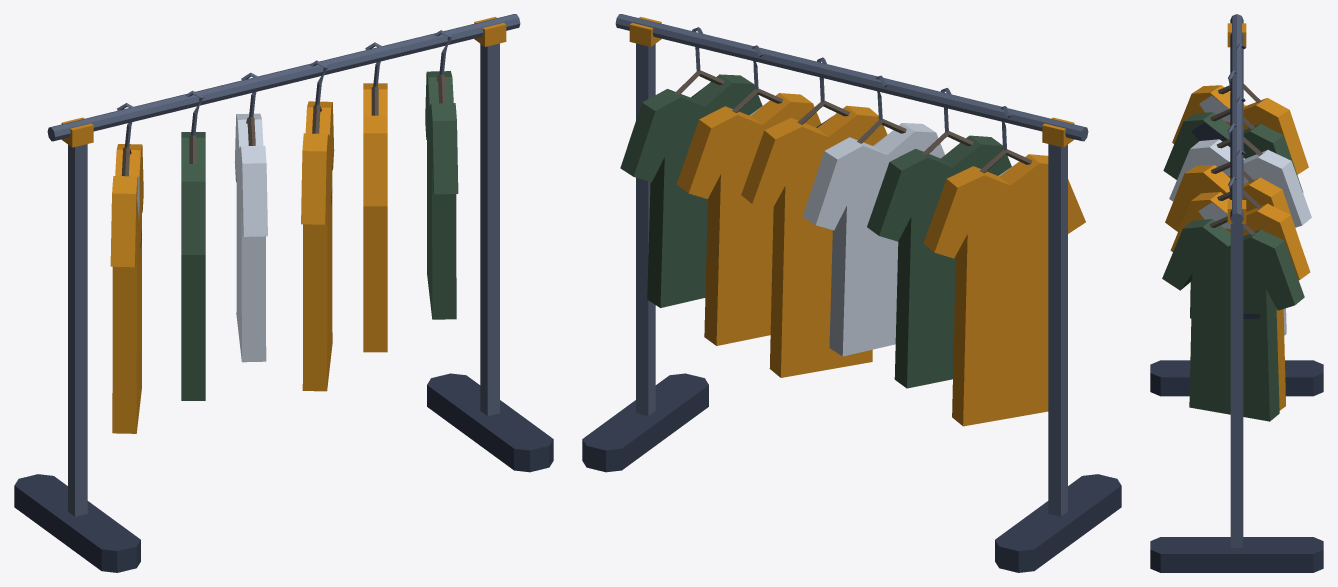
File: mall_clothes_rack_amber.glb
3 views of the same model, side by side, from view 1: azimuth 30°, elevation 25°; view 2: azimuth 150°, elevation 25°; view 3: azimuth 270°, elevation 25° (orthographic). The views are drawn at different scales.
Parts seen in each view (by area): view 1: draped_jacket, clothes_rail, draped_jacket.001, lapel.001, draped_jacket.002, hanger; view 2: draped_jacket, draped_jacket.001, clothes_rail, draped_jacket.002, lapel.001, hanger; view 3: draped_jacket.001, draped_jacket, lapel.001, clothes_rail, draped_jacket.002, hanger.
Part boxes in pixels (x1,y1,x2,y2): draped_jacket: [61, 17, 506, 433]; clothes_rail: [47, 14, 520, 516]; draped_jacket.001: [181, 71, 458, 400]; lapel.001: [14, 189, 553, 572]; draped_jacket.002: [137, 113, 267, 362]; hanger: [121, 74, 446, 176]; draped_jacket: [629, 17, 1085, 426]; draped_jacket.001: [620, 74, 1011, 388]; clothes_rail: [615, 14, 1088, 516]; draped_jacket.002: [749, 105, 1013, 356]; lapel.001: [582, 85, 1121, 572]; hanger: [675, 70, 1032, 173]; draped_jacket.001: [1162, 112, 1304, 421]; draped_jacket: [1165, 23, 1310, 410]; lapel.001: [1150, 122, 1323, 572]; clothes_rail: [1227, 14, 1245, 547]; draped_jacket.002: [1169, 95, 1311, 335]; hanger: [1209, 84, 1262, 235].
Size of the model in its own units: 2.12 by 1.82 by 0.78.
